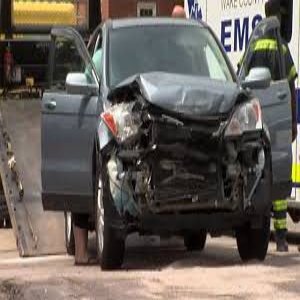bonnet: (133, 69, 244, 119)
bumper: (109, 142, 263, 225)
